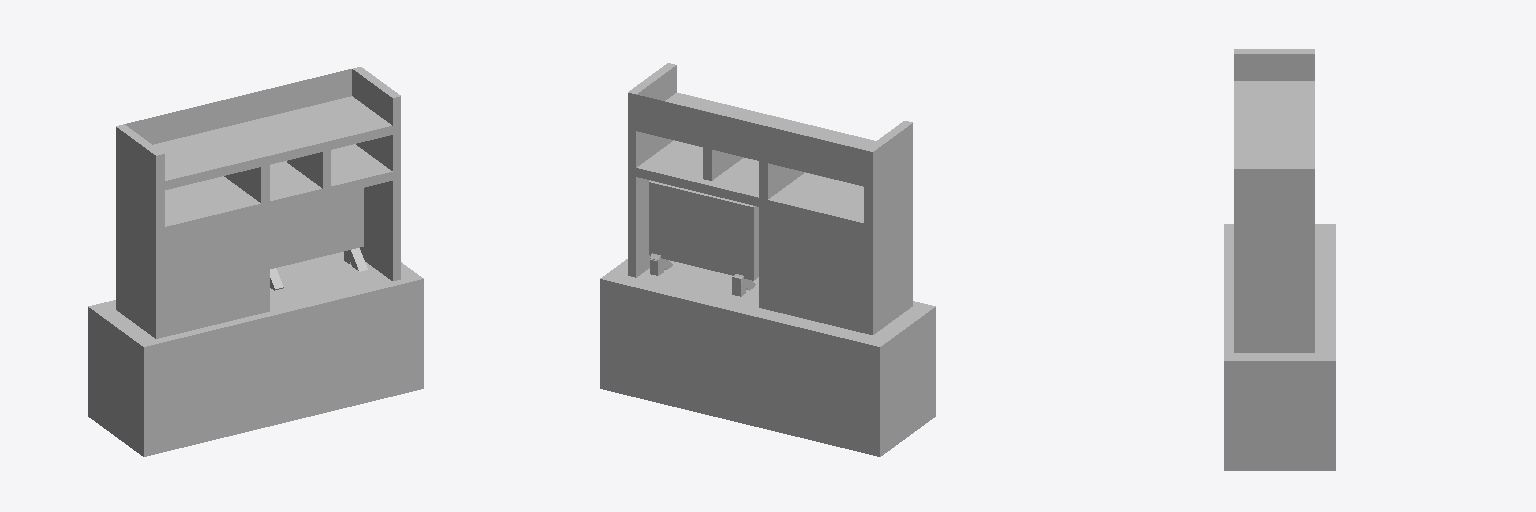
Rendered from estante.obj.
3 views of the same model, side by side, from view 1: azimuth 30°, elevation 25°; view 2: azimuth 150°, elevation 25°; view 3: azimuth 270°, elevation 25° (orthographic).
Visible parts, largest first — view 1: all; view 2: all; view 3: all.
Part boxes in pixels (left/top/right/bottom): all: left=88, top=67, right=423, bottom=456; all: left=600, top=63, right=935, bottom=456; all: left=1224, top=49, right=1335, bottom=470.
Size of the model in its own units: 2 by 2 by 0.6875.